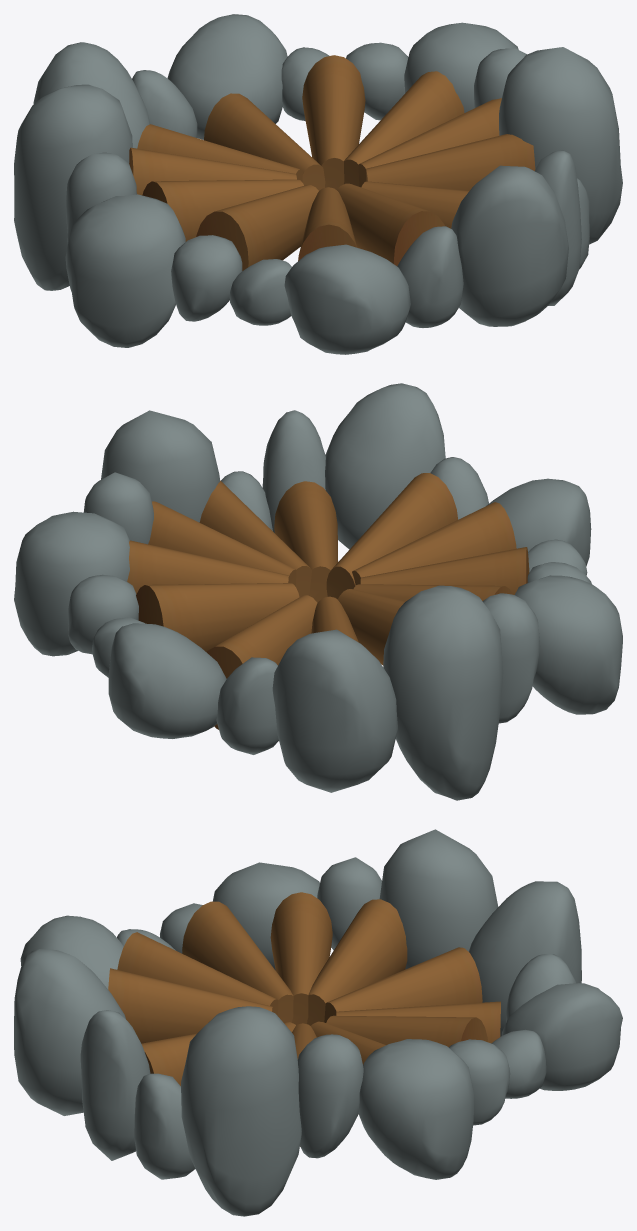
Rendered from campfire.fbx.
3 renders of one model, top to bottom at view 1: azimuth 30°, elevation 25°; view 2: azimuth 150°, elevation 25°; view 3: azimuth 270°, elevation 25°, orthographic.
Visible parts, largest first — view 1: polySurface105, polySurface93; view 2: polySurface105, polySurface93; view 3: polySurface105, polySurface93.
Boxes of the visible parts, x1,y1,x2,y2 form: polySurface105: (14,14,622,354); polySurface93: (129,55,535,270); polySurface105: (14,383,622,800); polySurface93: (127,473,529,729); polySurface105: (14,829,622,1216); polySurface93: (108,892,500,1146).
Bounding box in the file's own units: 0.2313 × 0.0902 × 0.2374.
